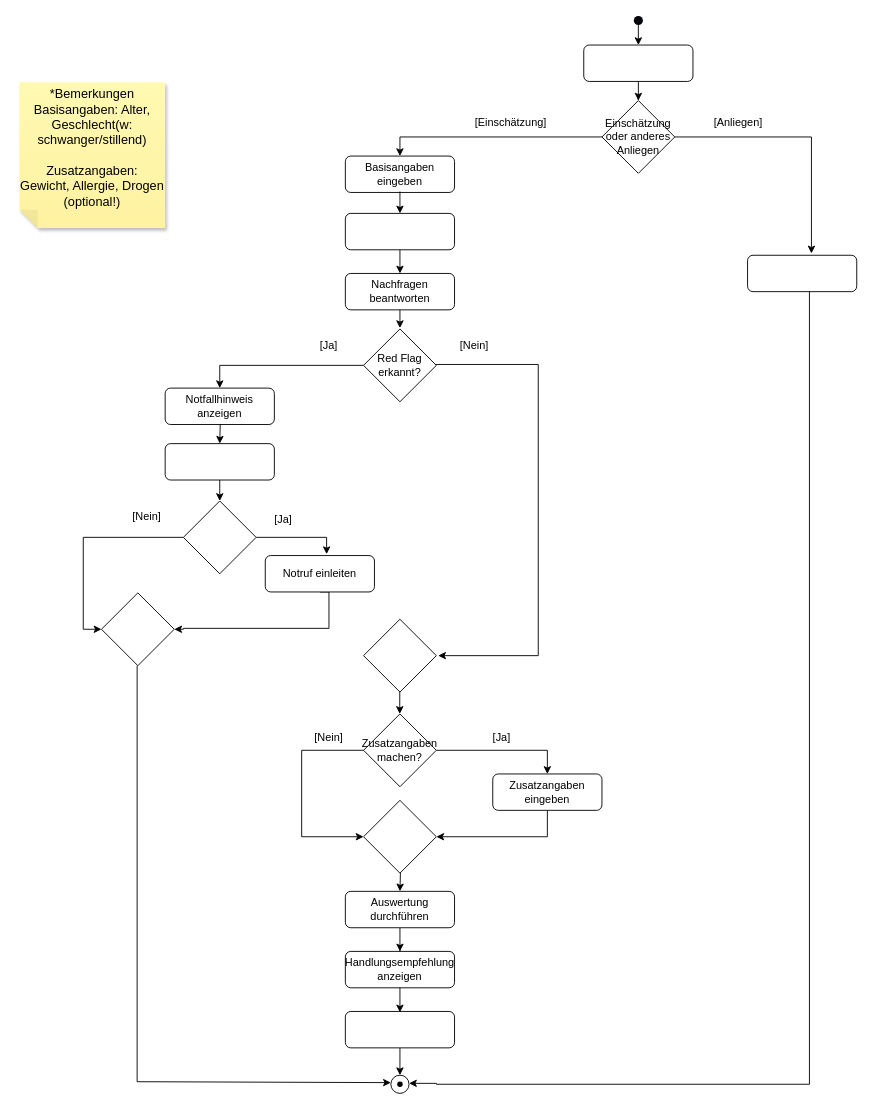
The diagram is 873 pixels wide and 1109 high, and some of its shapes have lost their labels. Each missing label, with the centre of its shape:
"Code ausgeben" belongs at pixel 399 1029.
"SOS-Button anzeigen" belongs at pixel 219 461.
"SOS-Button gedrückt?" belongs at pixel 219 537.
"Symptome auswählen" belongs at pixel 399 231.
"Termin buchen/Rezept verlängern" belongs at pixel 802 273.
"Webseite öffnen" belongs at pixel 638 62.
